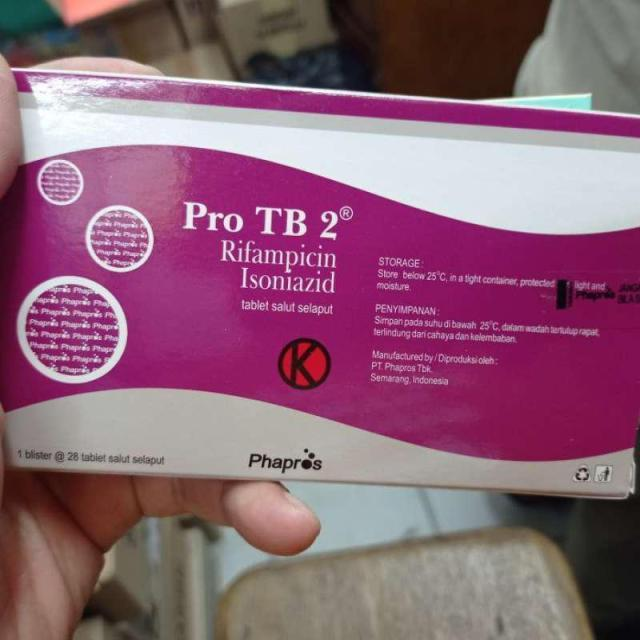drug-name: (181, 197, 340, 242)
